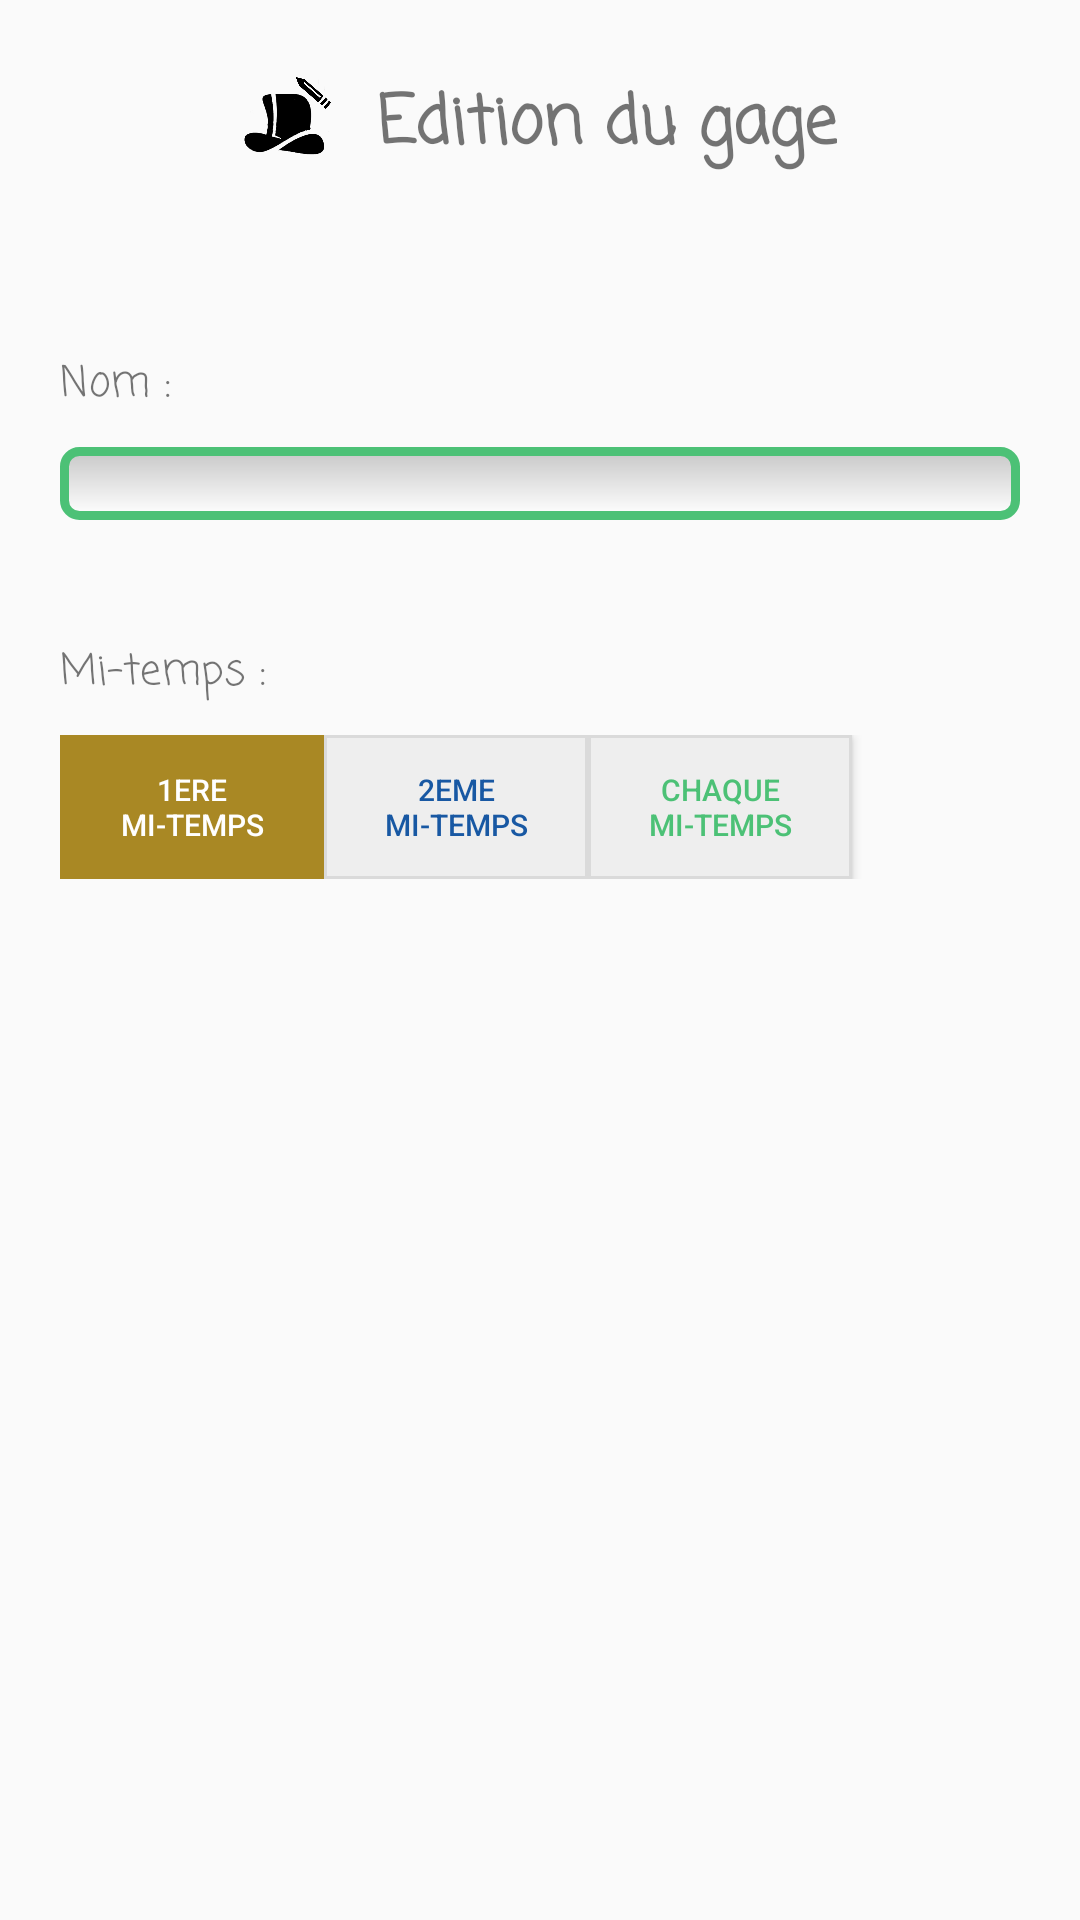

Where icons sit on this 1080 x 1920 app screen, as rect(x1, y1, x2, y2):
edit objective: rect(244, 77, 331, 155)
